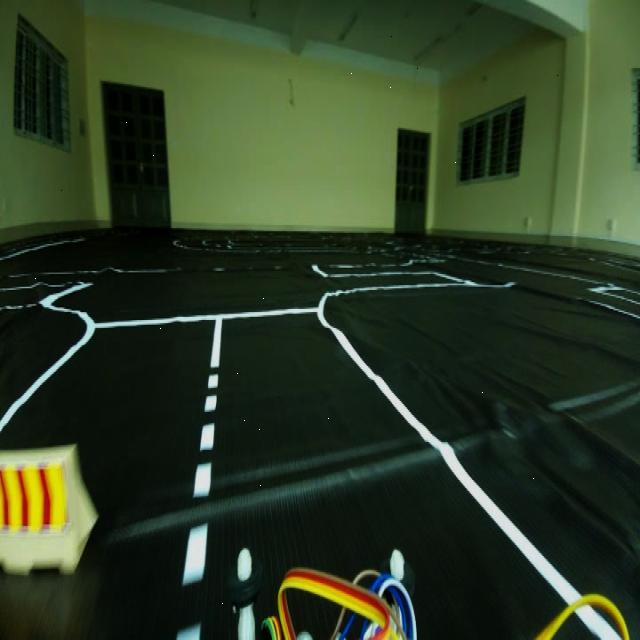roadblock: (3, 436, 105, 586)
